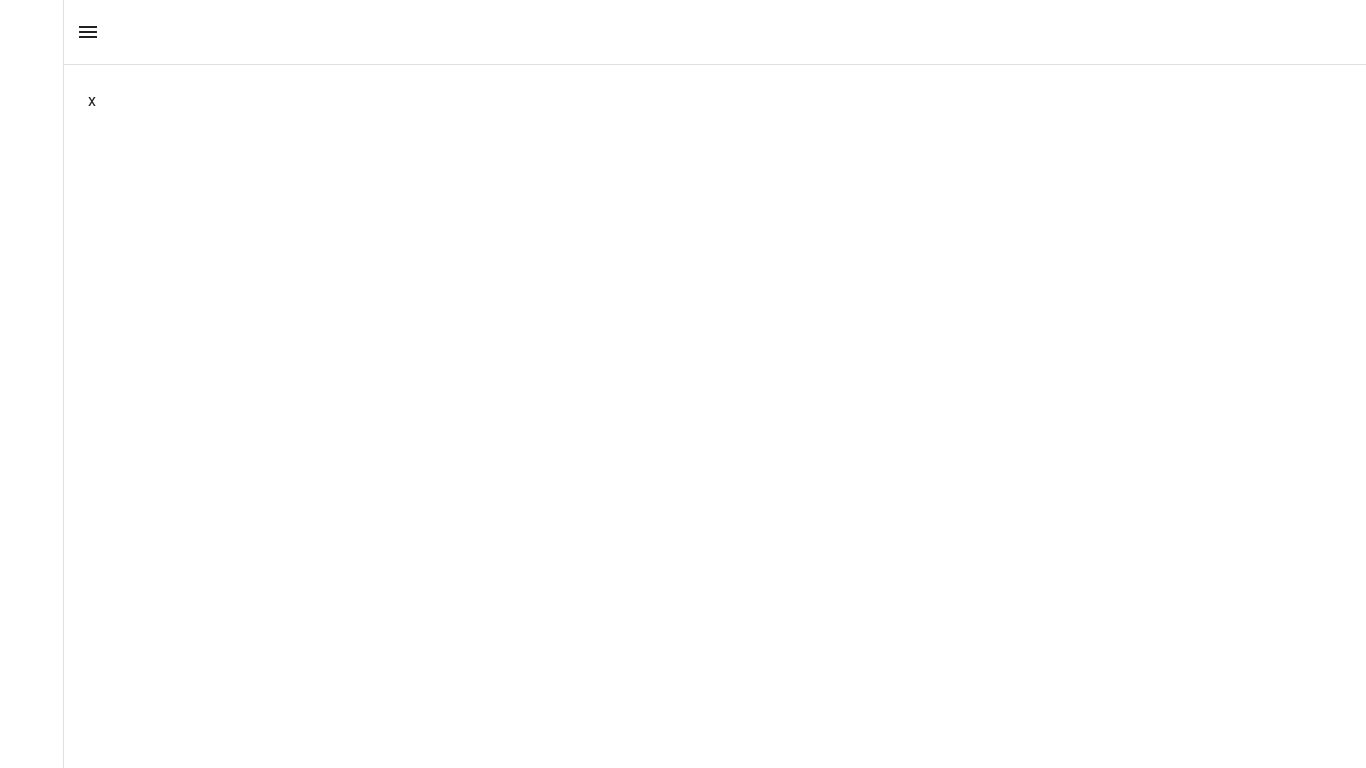
Test case: <AppShell> › falls back to the default when storage throws
Click the button named "Expand sidebar".
click(88, 32)  # box [68,12,108,52]
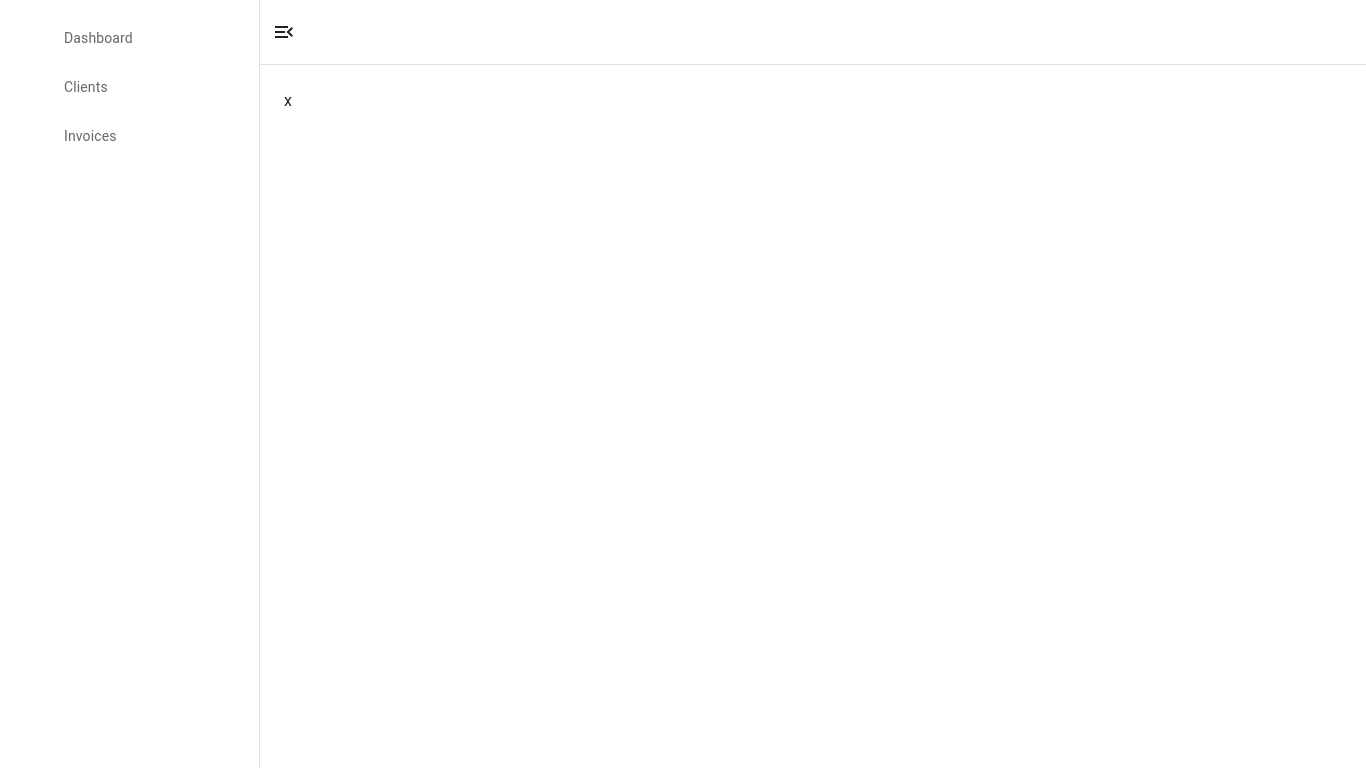
Result: the button named "Collapse sidebar" is shown at [264,12,304,52]
